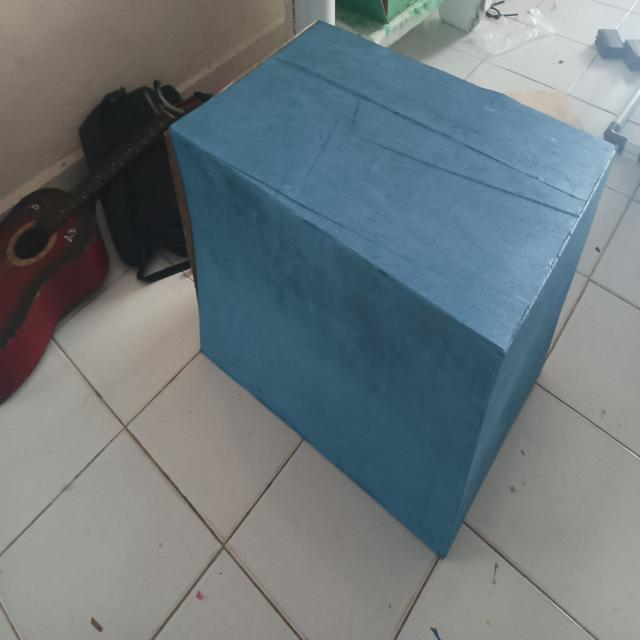blue_box: (153, 12, 633, 571)
